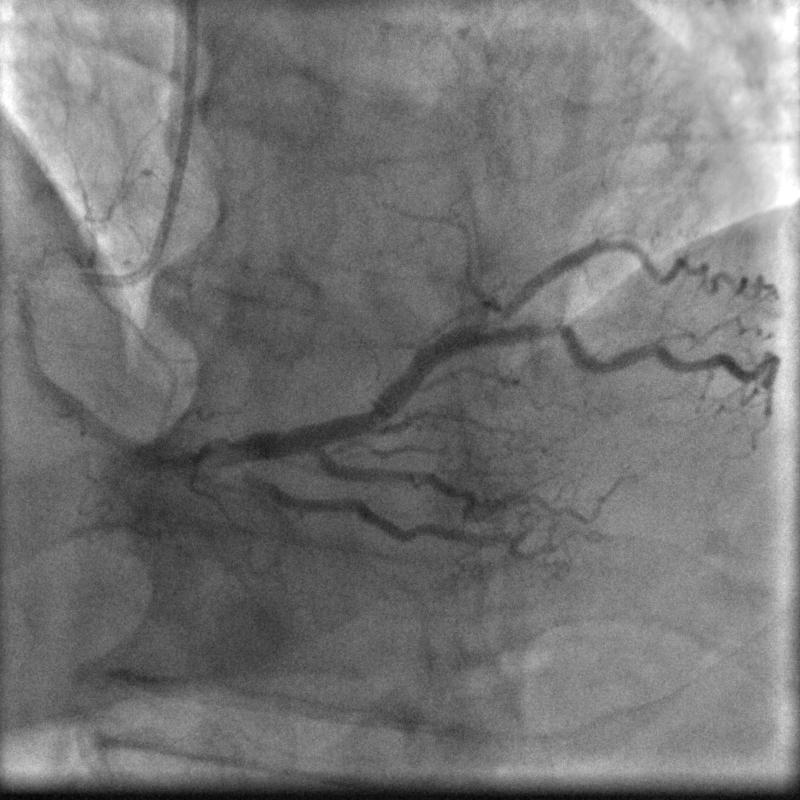Stenosis: (511, 318, 575, 346)
